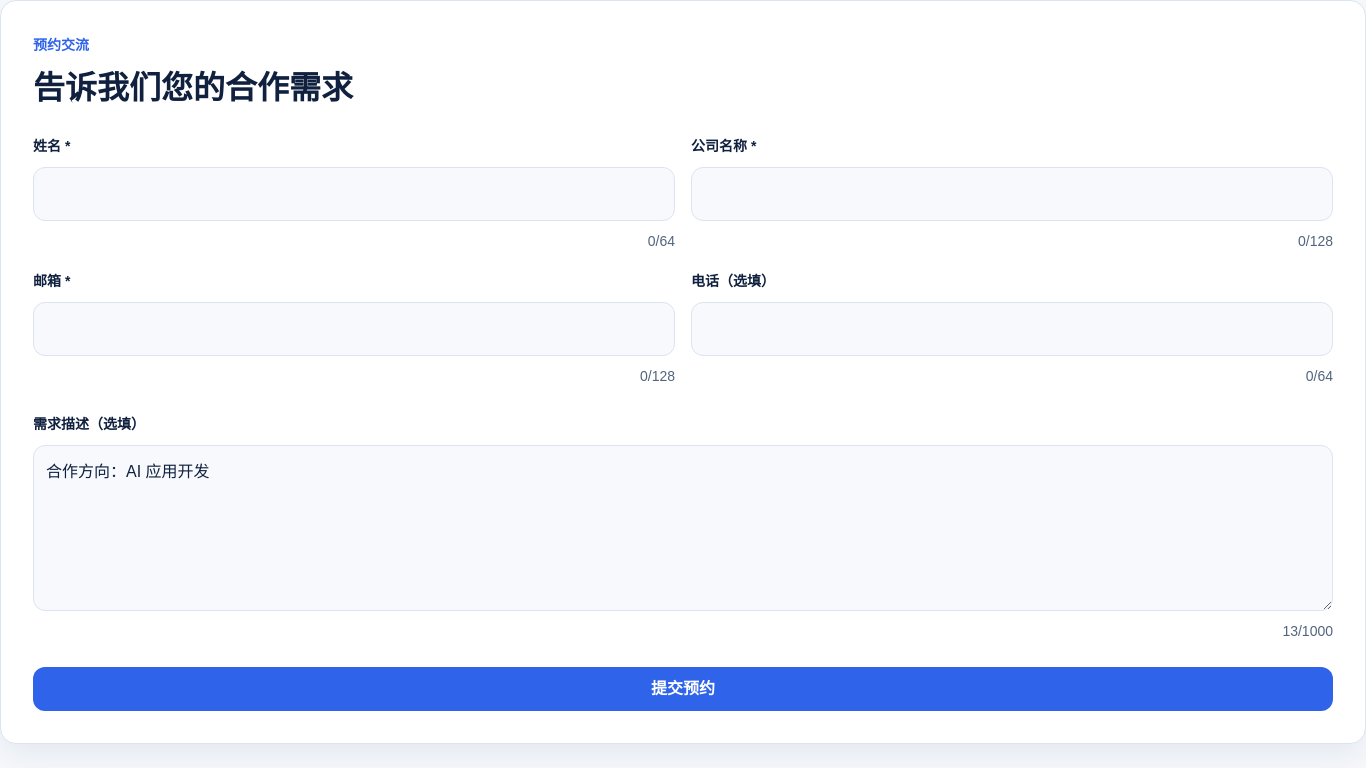
Test: ContactForm › prefills the selected direction and submits only the documented request fields
Type "张三" into the field labelled "姓名 *".
click(354, 194); type("张三")  # box top-left (33, 167), bottom-right (675, 221)
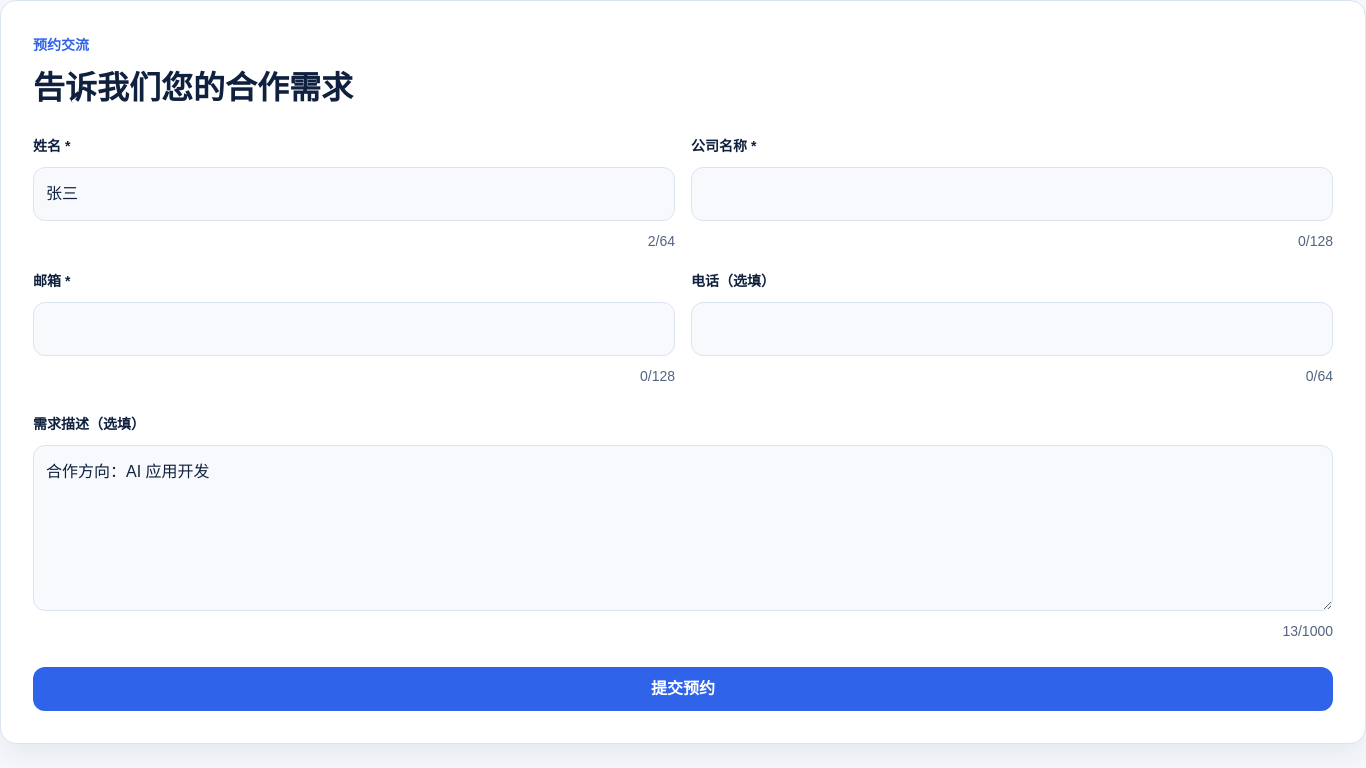
Type "云台数据" into the field labelled "公司名称 *".
click(1012, 194); type("云台数据")  # box top-left (691, 167), bottom-right (1333, 221)
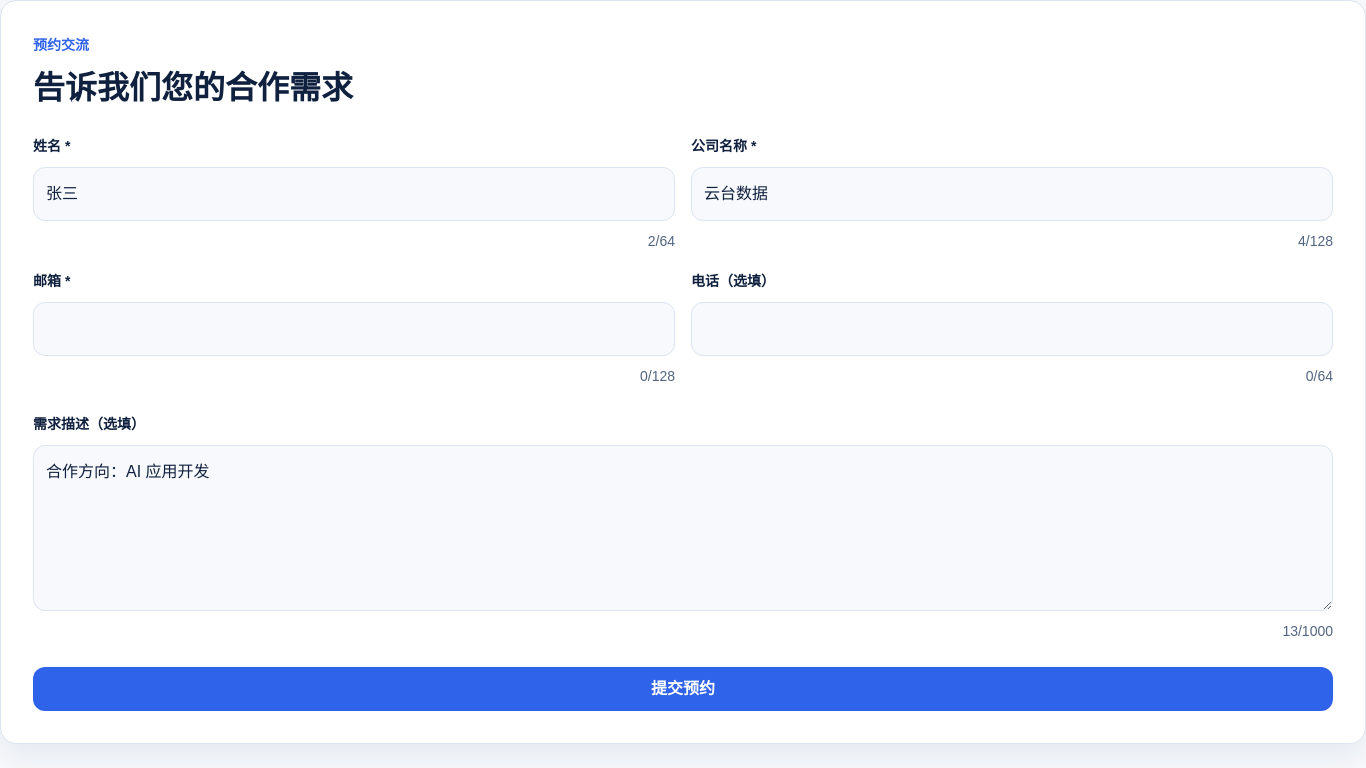
Type "hello@example.com" into the field labelled "邮箱 *".
click(354, 329); type("hello@example.com")  # box top-left (33, 302), bottom-right (675, 356)
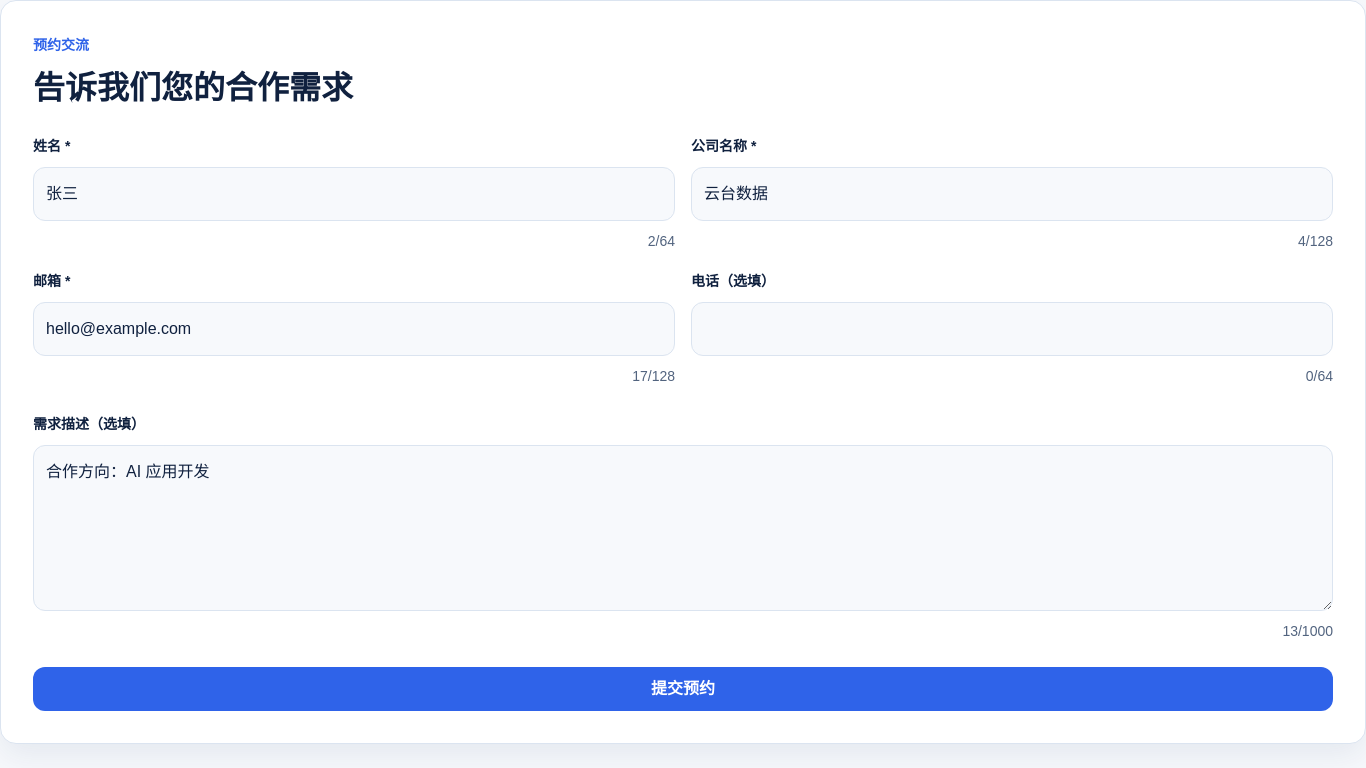
Click the button "提交预约".
click(683, 689)  # box top-left (33, 667), bottom-right (1333, 711)
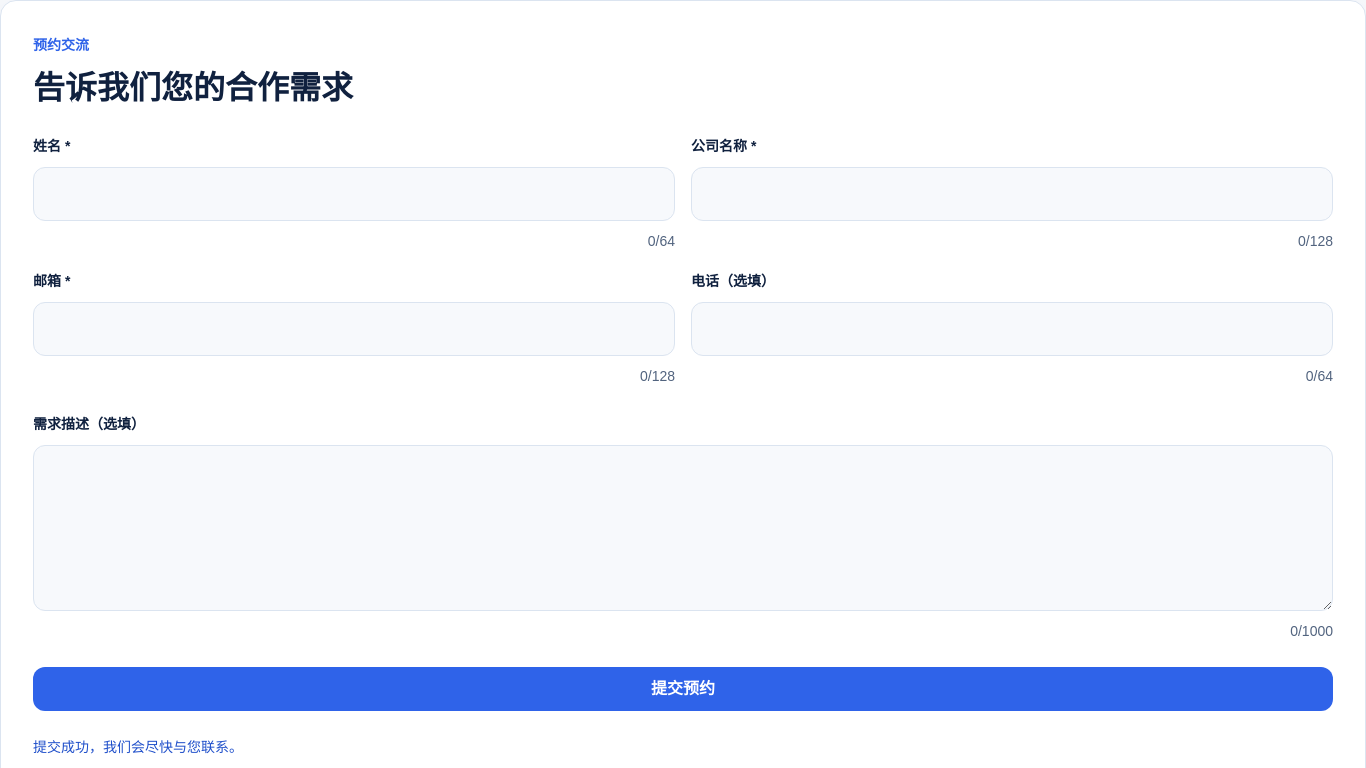
Expected: the message shows "提交成功", top-left (33, 739), bottom-right (243, 755)
